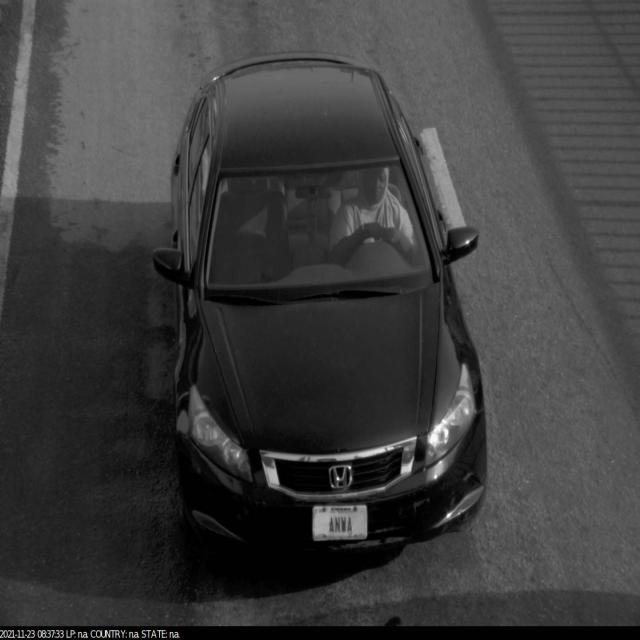windshield: (194, 147, 446, 313)
